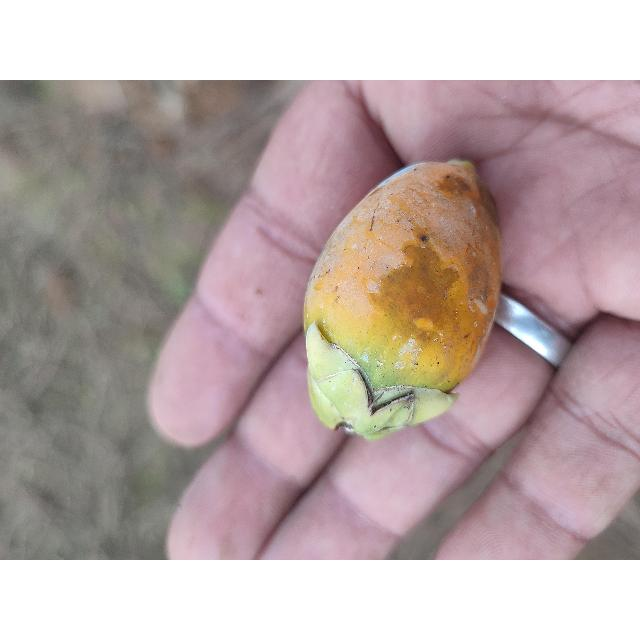good: (301, 160, 502, 443)
